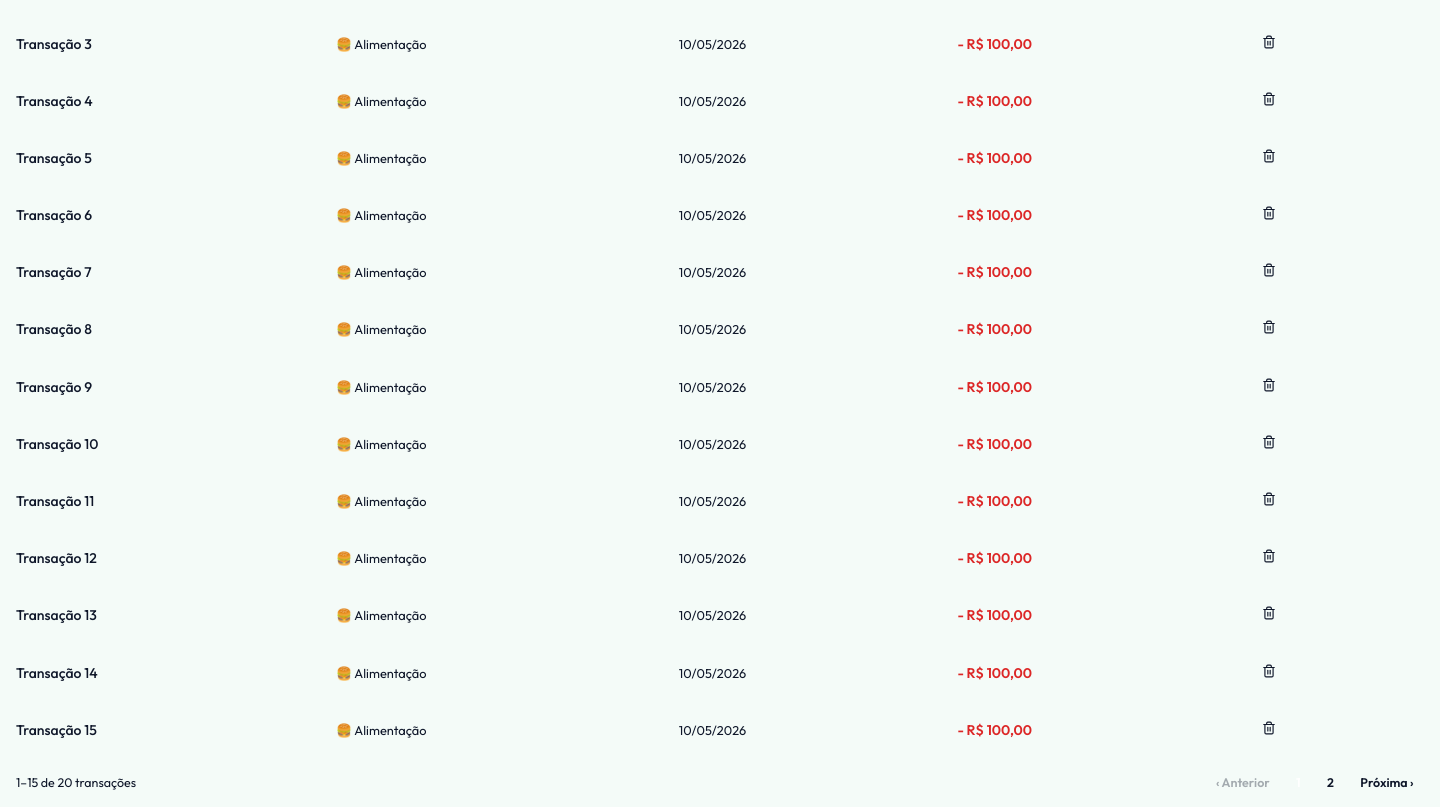
Test case: TransactionList — paginação › navega para a próxima página ao clicar em "Próxima"
(page scrolled)
What coordinates should you click on to do the following:
click the button "Próxima ›"
I would click on:
 (1387, 783)
Its box is [1350, 770, 1424, 795].
(page scrolled)
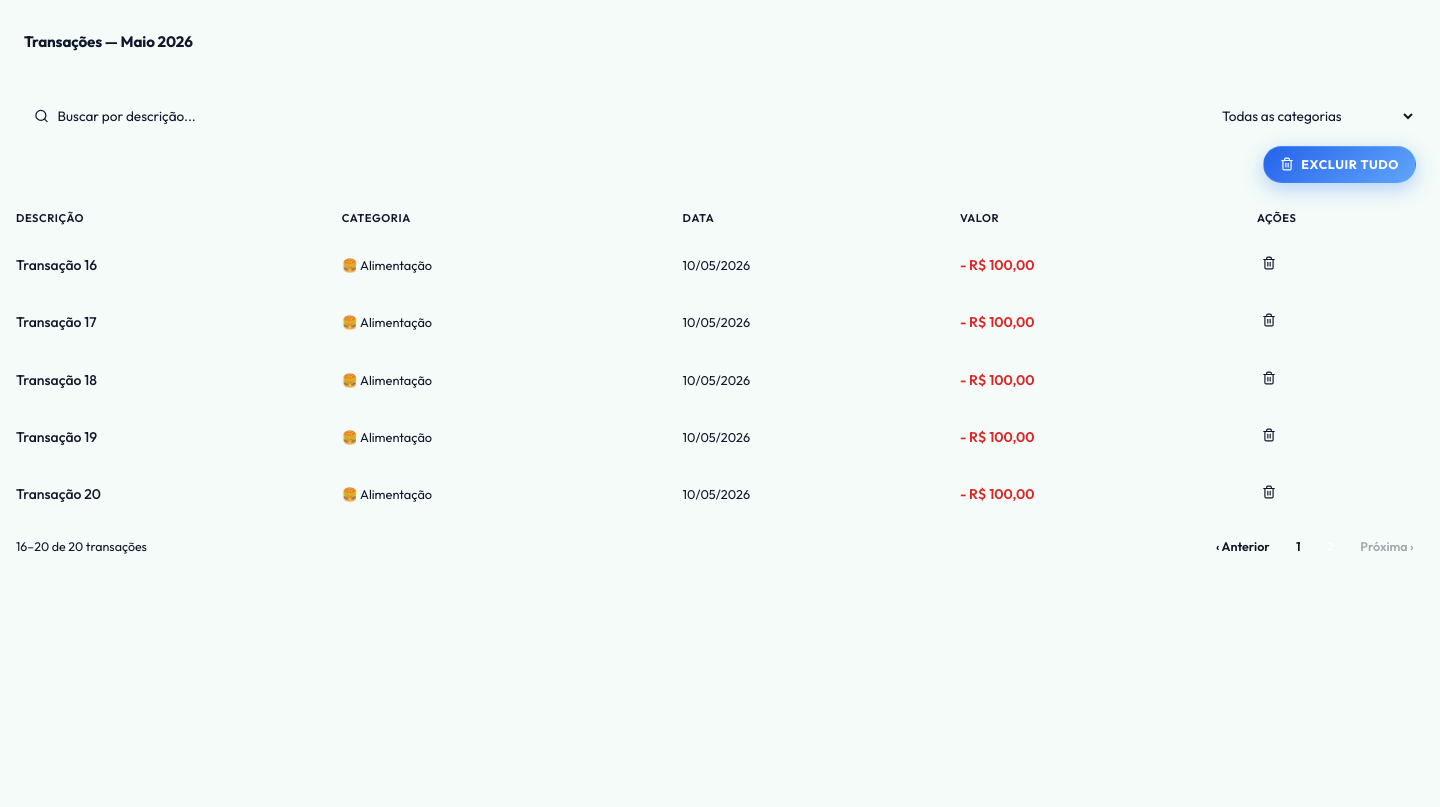
Check: the text "Transação 16" is shown, box [0, 237, 326, 294]
